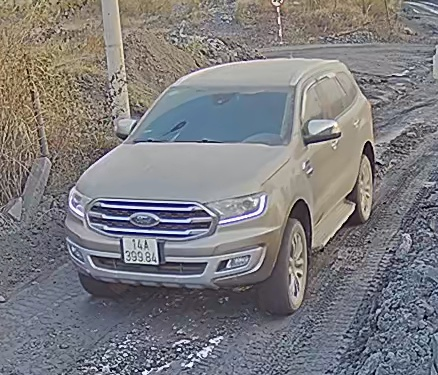vehicle plate: (118, 236, 162, 264)
